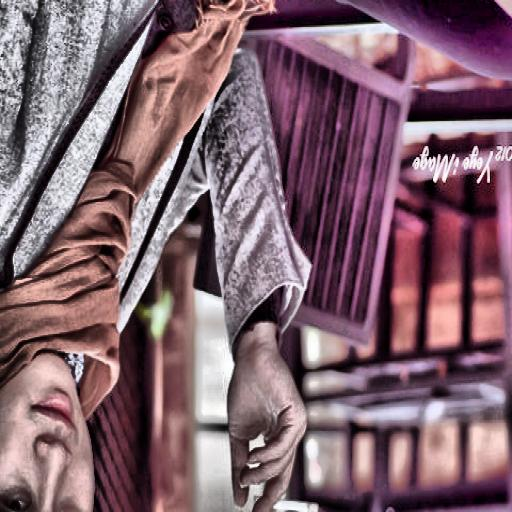Merokok: (277, 499, 319, 512)
Rokok: (228, 326, 319, 512)
